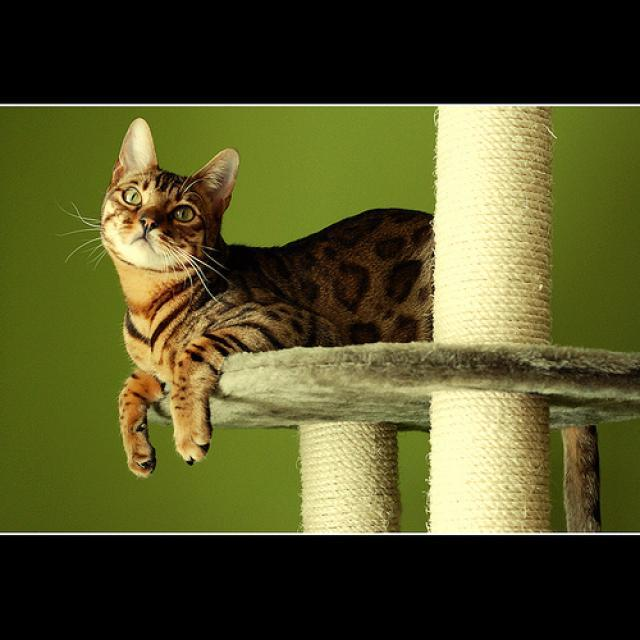Bengal: (94, 111, 242, 282)
